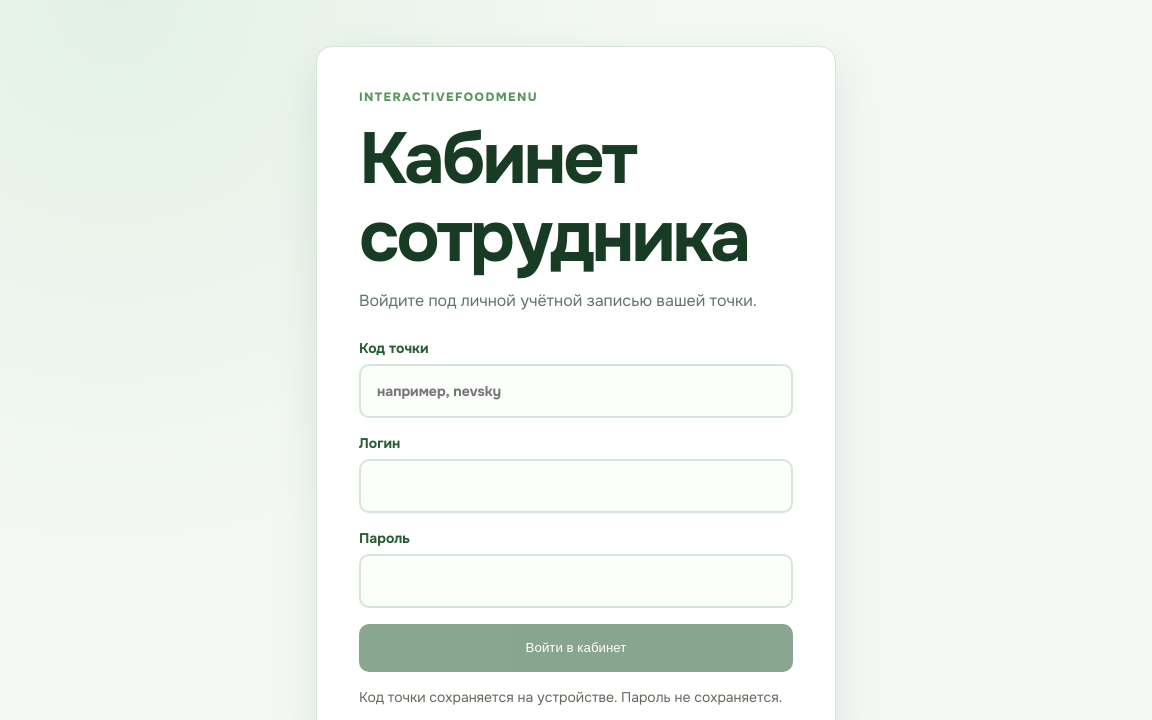
Test: staff application flow › reconciles an uncertain stock response without replaying the decrement
Type "wintercafe123" into the field labelled "Код точки" at (576, 391), box [359,364,793,418]
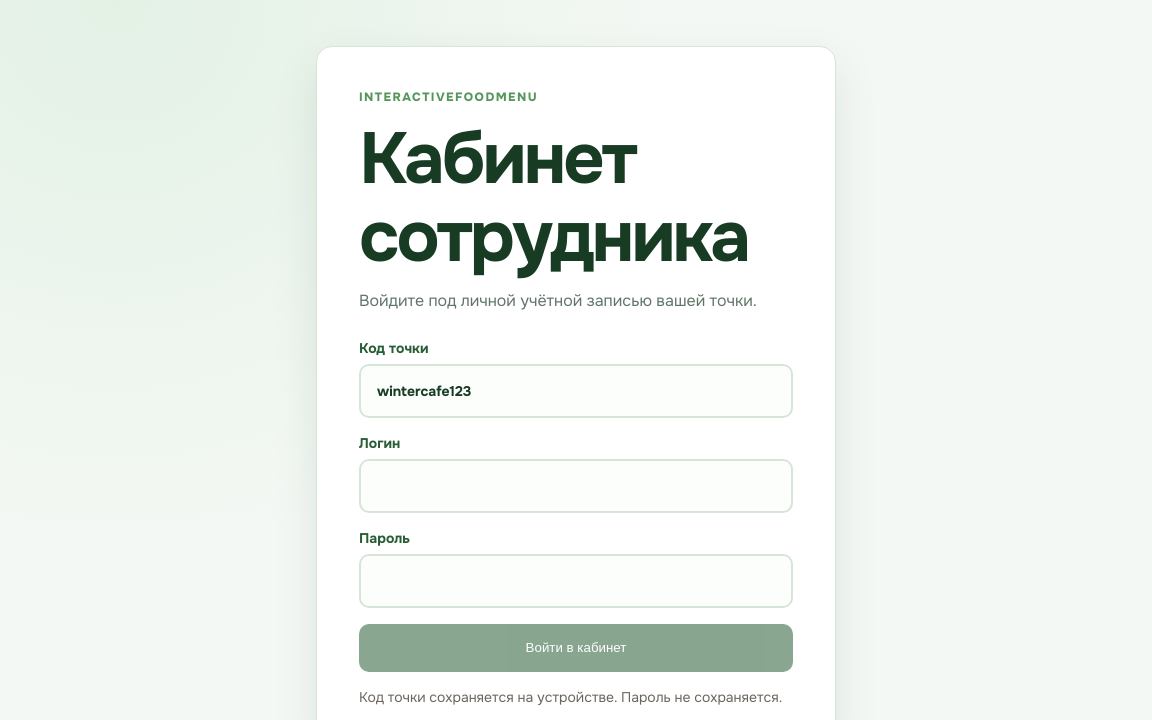
Type "worker" into the field labelled "Логин" at (576, 486), box [359,459,793,513]
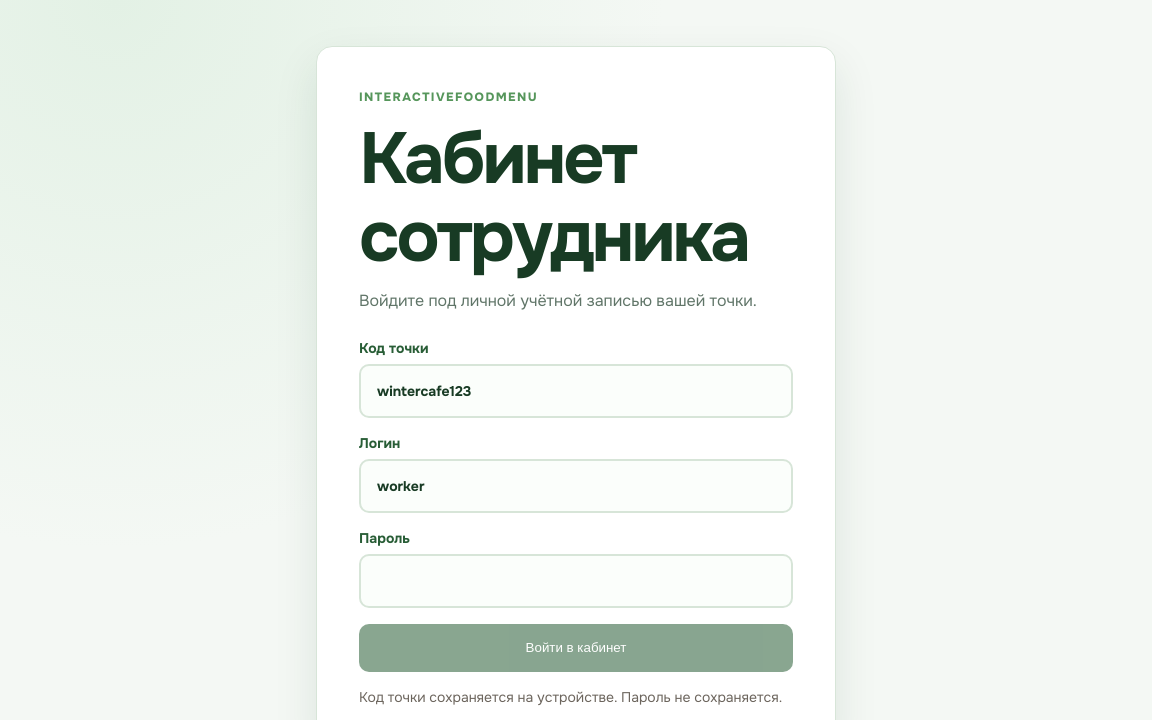
Type "personal-password" into the password field labelled "Пароль" at (576, 581), box [359,554,793,608]
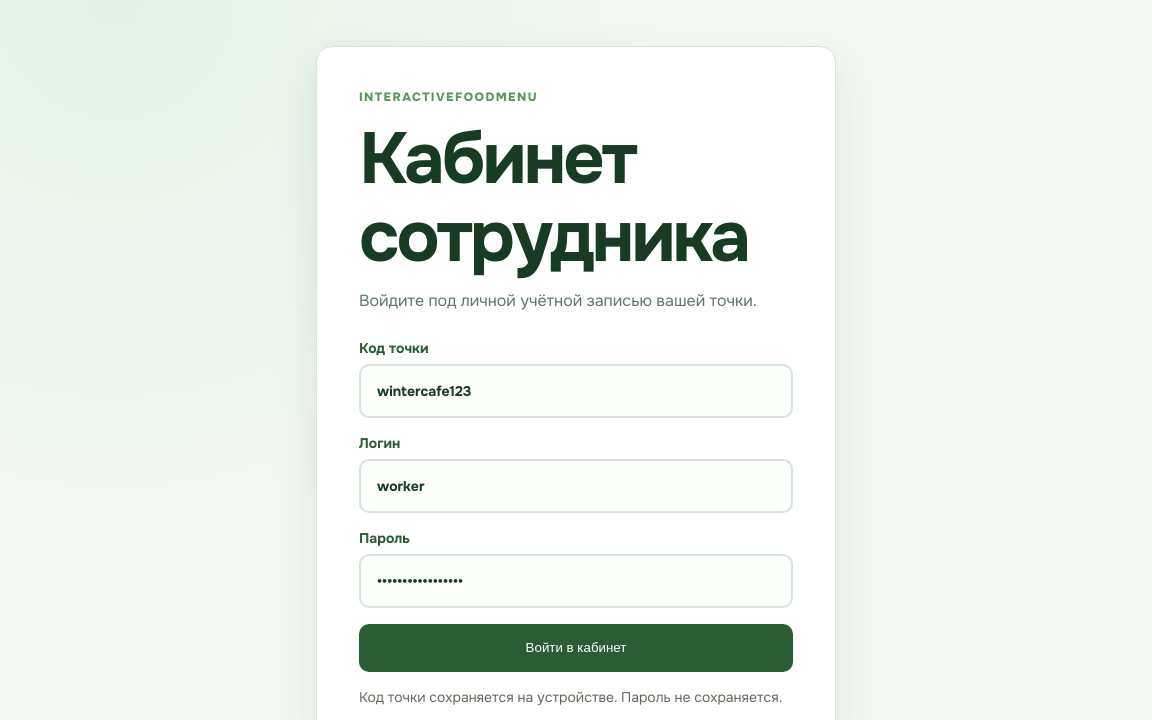
Click the button "Войти в кабинет" at (576, 648), box [359,624,793,672]
(page scrolled)
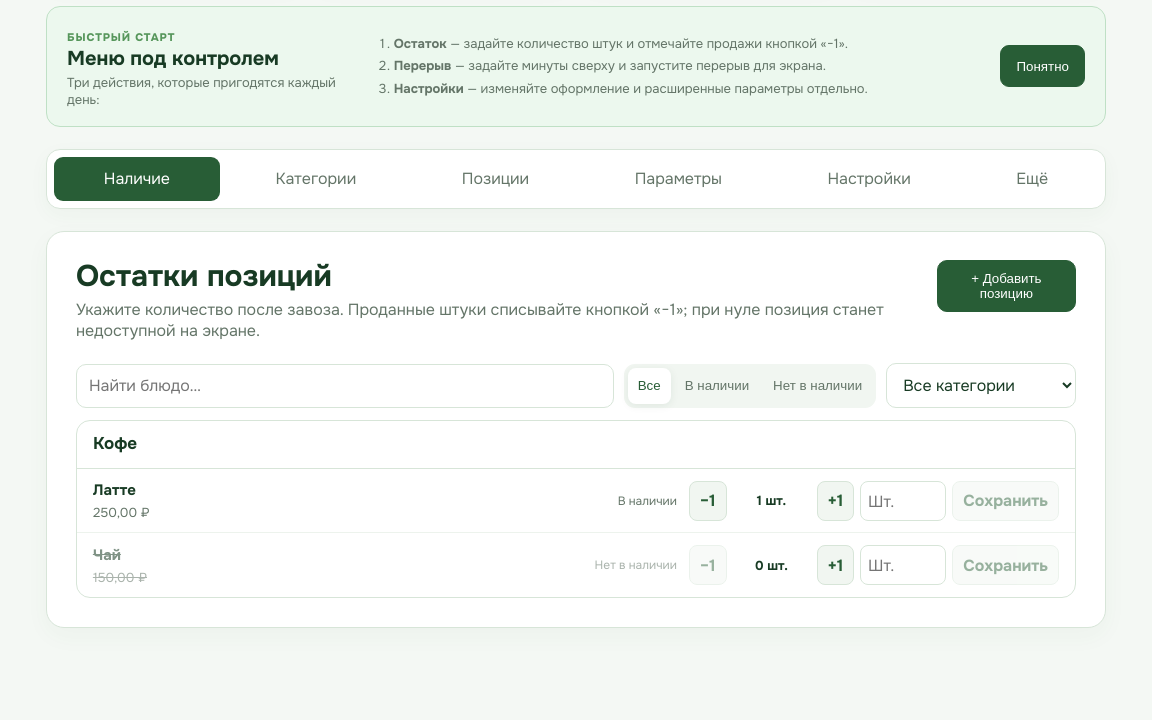
Click the button named "Списать одну штуку Латте" at (708, 501), box [689,481,726,521]
(page scrolled)
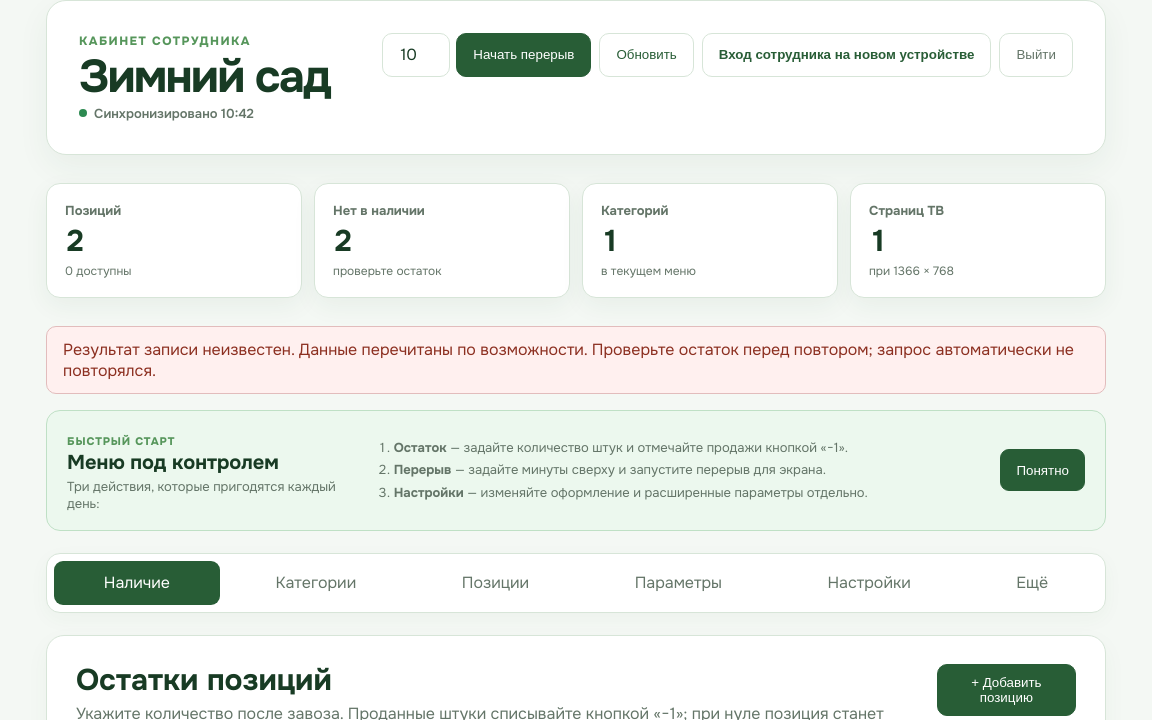
Now the message shows "Результат записи неизвестен", box [63,339,1074,381]
